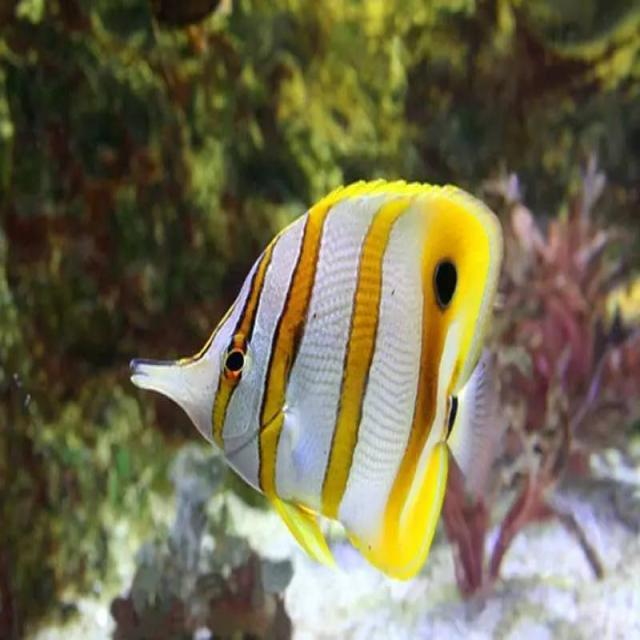ButterflyFish: (130, 179, 501, 587)
